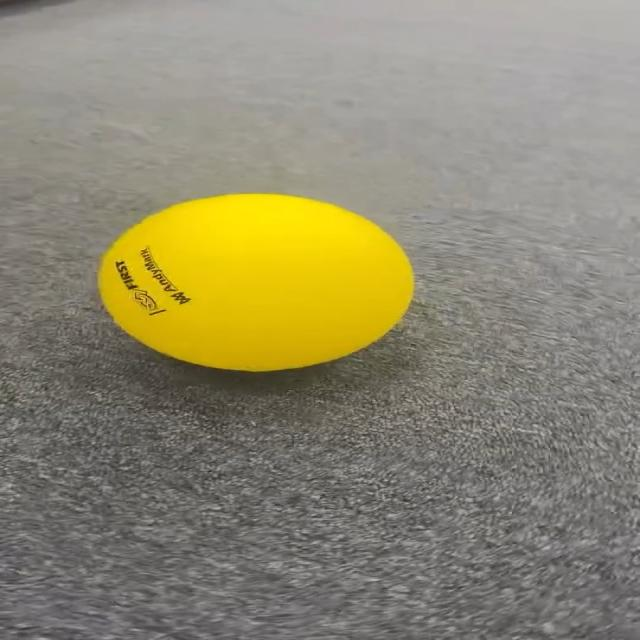Fuels: (98, 195, 408, 367)
